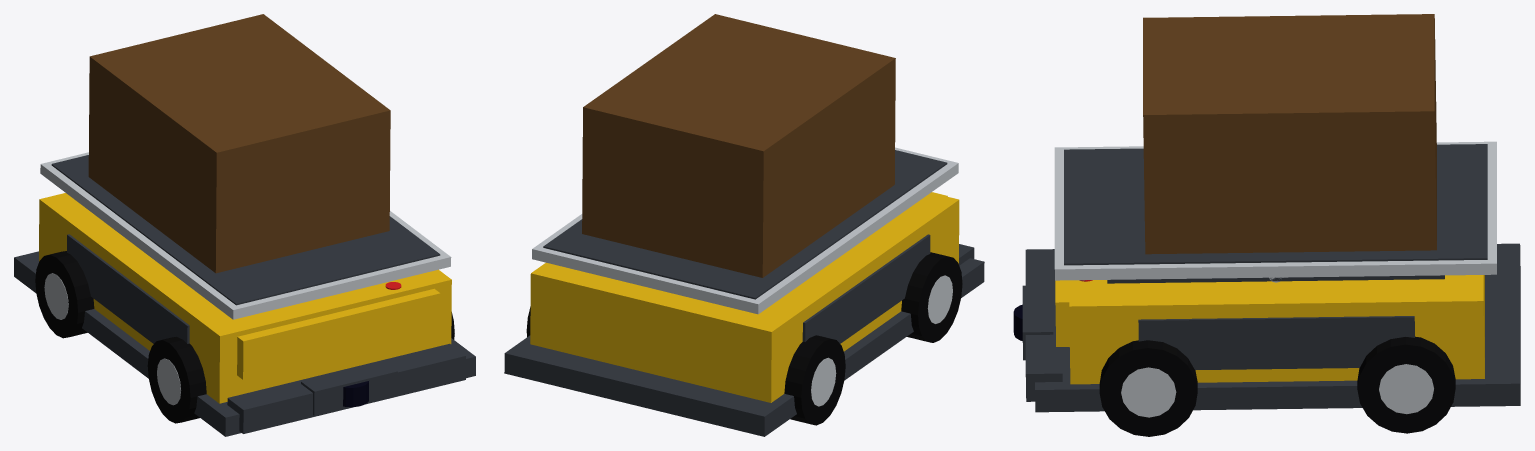
The model's file is robot-box.obj.
3 renders of one model, left to right at view 1: azimuth 30°, elevation 25°; view 2: azimuth 150°, elevation 25°; view 3: azimuth 270°, elevation 25°, orthographic. The views are drawn at different scales.
Visible parts, largest first — view 1: AGV_Robot_Keren; view 2: AGV_Robot_Keren; view 3: AGV_Robot_Keren.
Part boxes in pixels (left/top/right/bottom): AGV_Robot_Keren: left=14, top=14, right=475, bottom=436; AGV_Robot_Keren: left=504, top=14, right=984, bottom=436; AGV_Robot_Keren: left=1013, top=14, right=1520, bottom=436.
Size of the model in its own units: 1.14 by 1.08 by 1.65.
